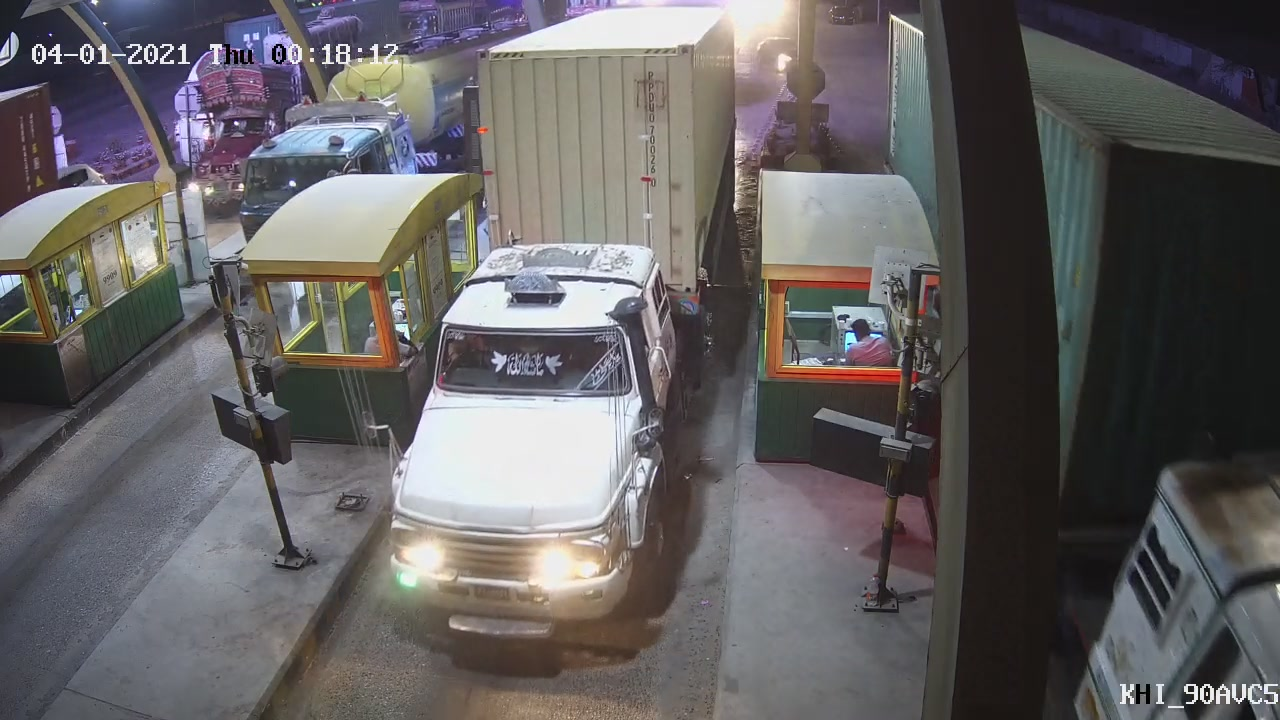F6: (380, 7, 746, 642)
